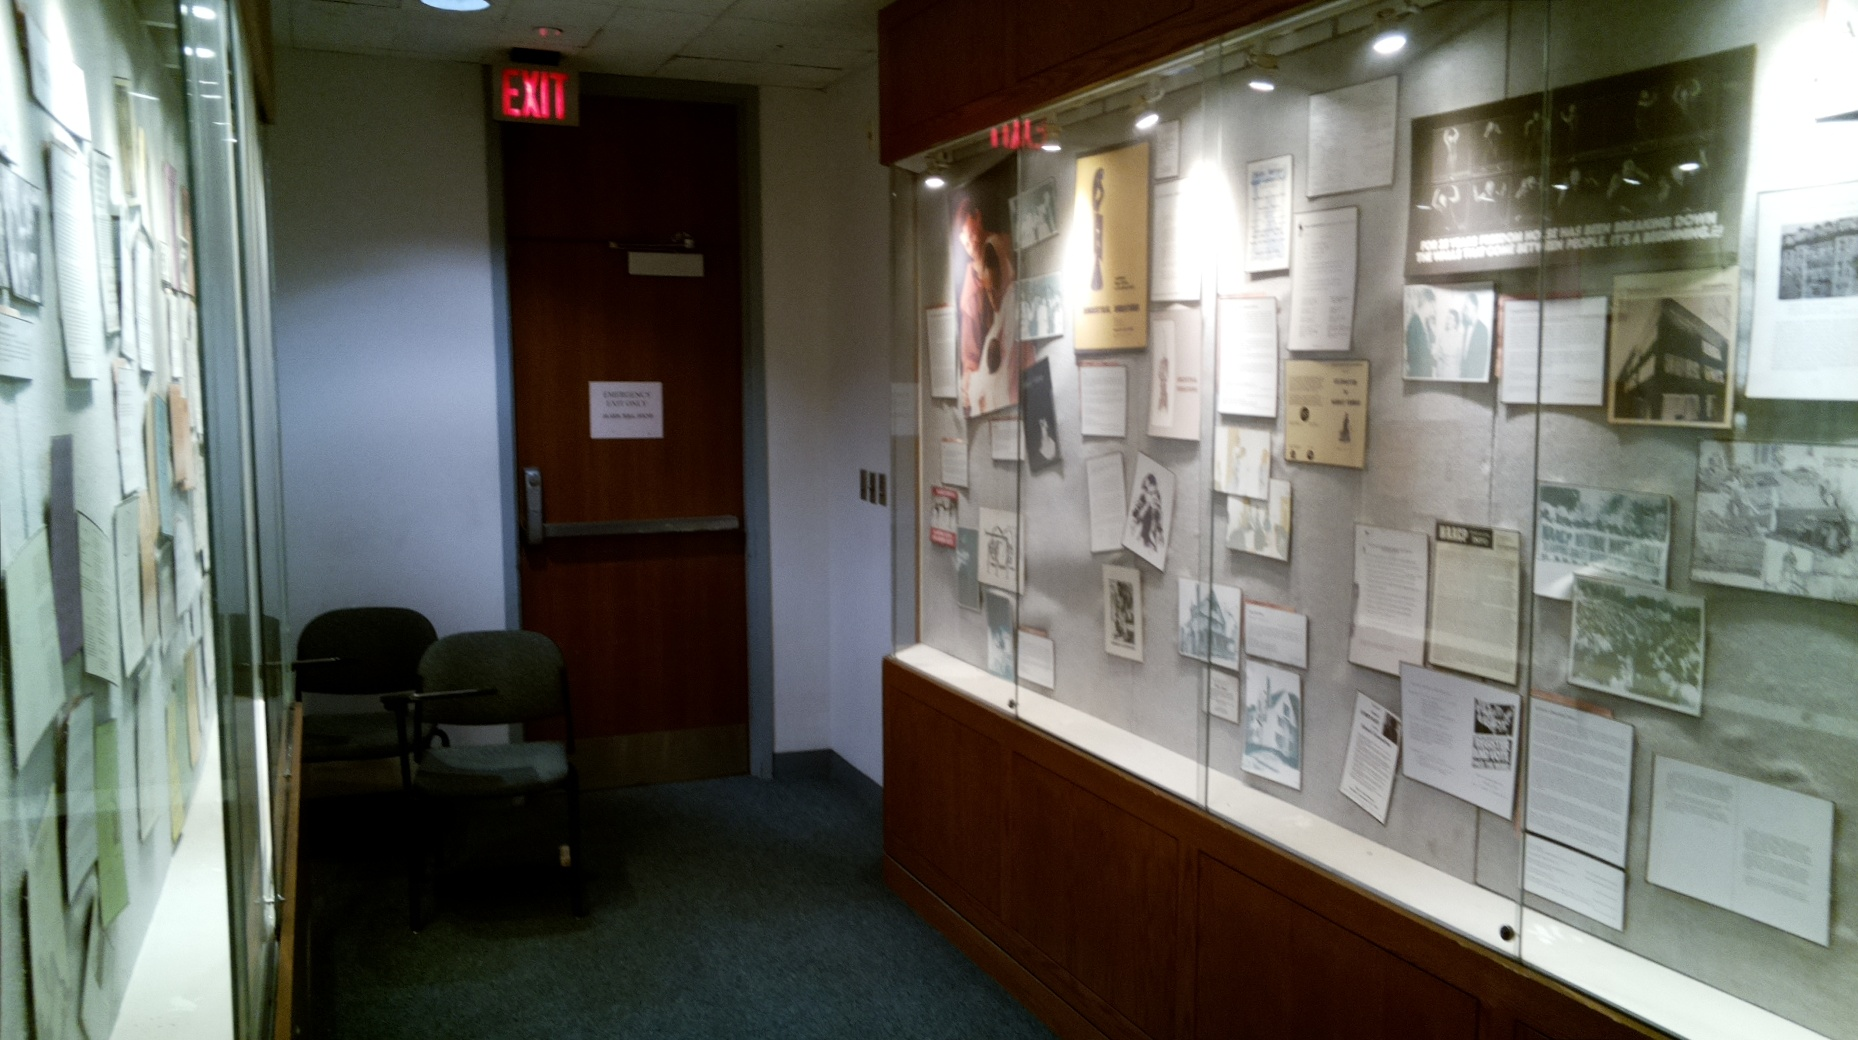exit sign: (482, 50, 590, 139)
